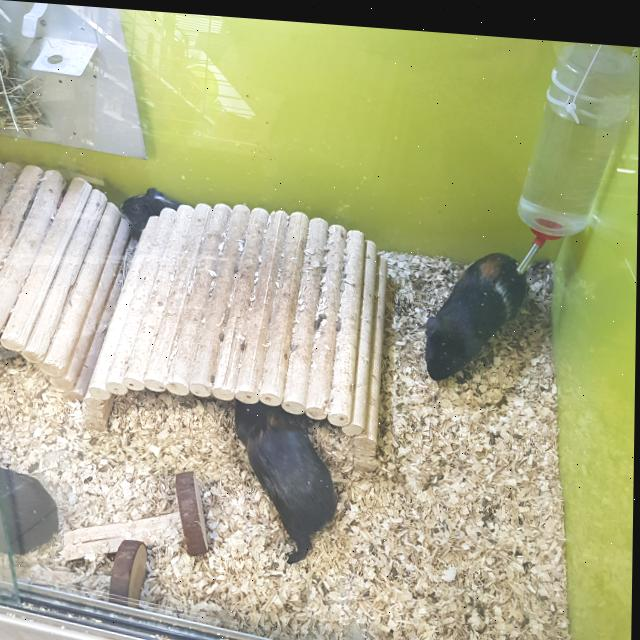guinea pig: (231, 395, 341, 563), (422, 236, 535, 381), (0, 439, 65, 561), (118, 179, 172, 239)
